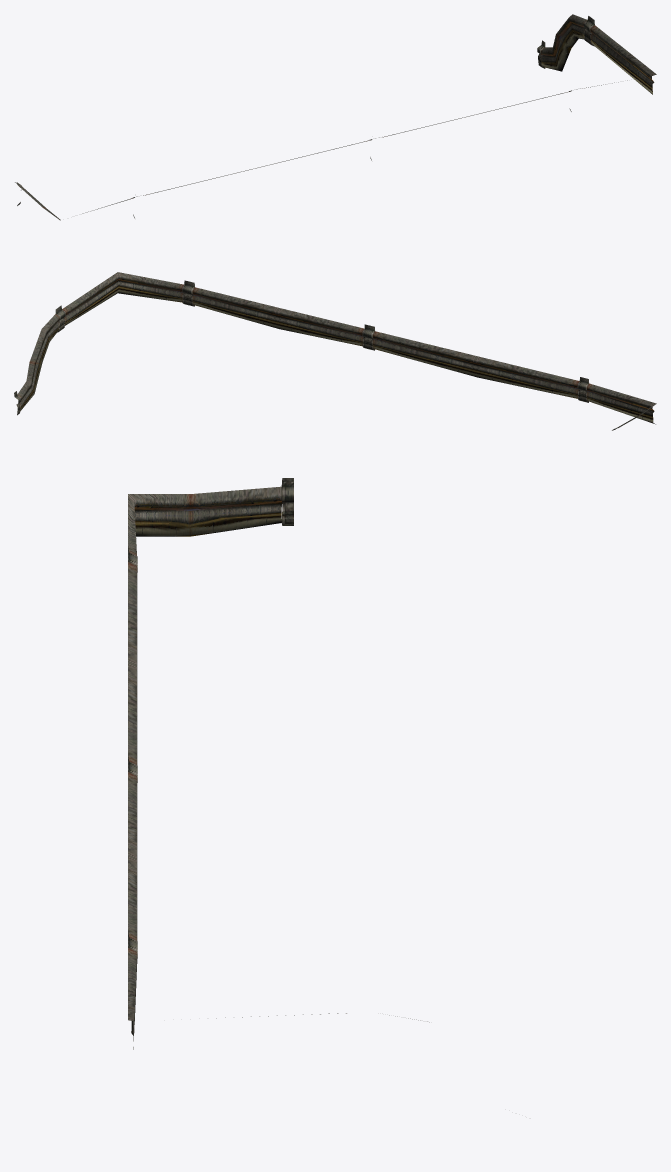
Rendered from M12_SidePipes_F.glb.
The picture shows the model from 3 angles, top to bottom: view 1: azimuth 30°, elevation 25°; view 2: azimuth 150°, elevation 25°; view 3: azimuth 270°, elevation 25°; orthographic projection. The views are drawn at different scales.
Visible parts, largest first — view 1: M12_SIDEPIPES_F; view 2: M12_SIDEPIPES_F; view 3: M12_SIDEPIPES_F.
Boxes of the visible parts, x1=… form: M12_SIDEPIPES_F: x1=15, y1=14, x2=656, y2=220; M12_SIDEPIPES_F: x1=14, y1=272, x2=656, y2=430; M12_SIDEPIPES_F: x1=128, y1=478, x2=429, y2=1049.
Size of the model in its own units: 15 by 2.04 by 5.
1 material, 1 textured.
